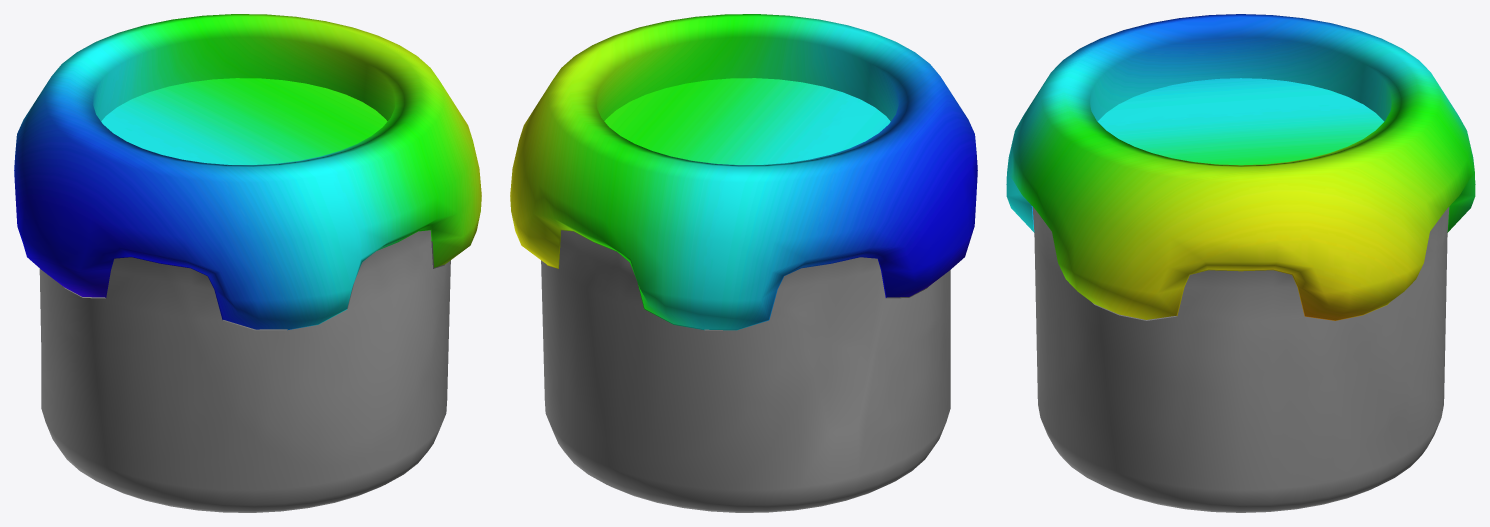
The model's file is Paint BUcket.fbx.
3 renders of one model, left to right at view 1: azimuth 30°, elevation 25°; view 2: azimuth 150°, elevation 25°; view 3: azimuth 270°, elevation 25°, orthographic.
Visible parts, largest first — view 1: Paint Bucket; view 2: Paint Bucket; view 3: Paint Bucket.
Boxes of the visible parts, bbox=[...] form: Paint Bucket: bbox=[14, 14, 481, 512]; Paint Bucket: bbox=[510, 14, 977, 512]; Paint Bucket: bbox=[1006, 14, 1475, 512].
Bounding box in the file's own units: 22.98 × 18.76 × 23.02.
Materials: 2 (2 with a texture image).
